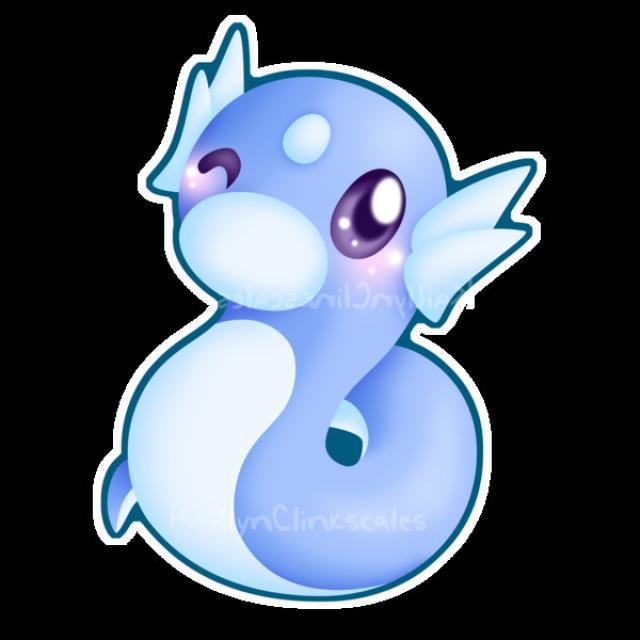Dratini: (90, 13, 541, 610)
